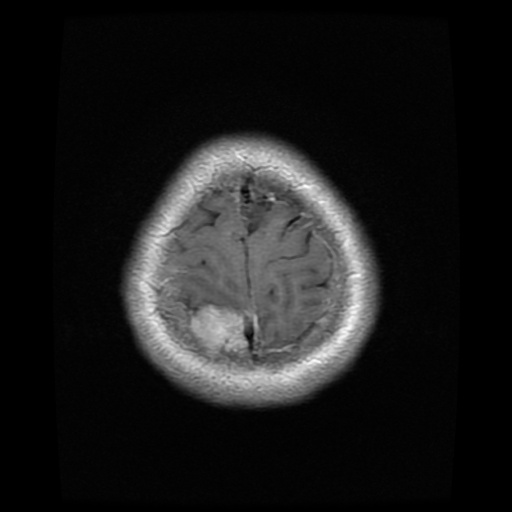meningioma: (188, 303, 249, 354)
